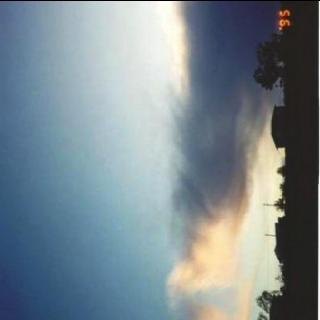Nimbostratus: (0, 0, 277, 320)
